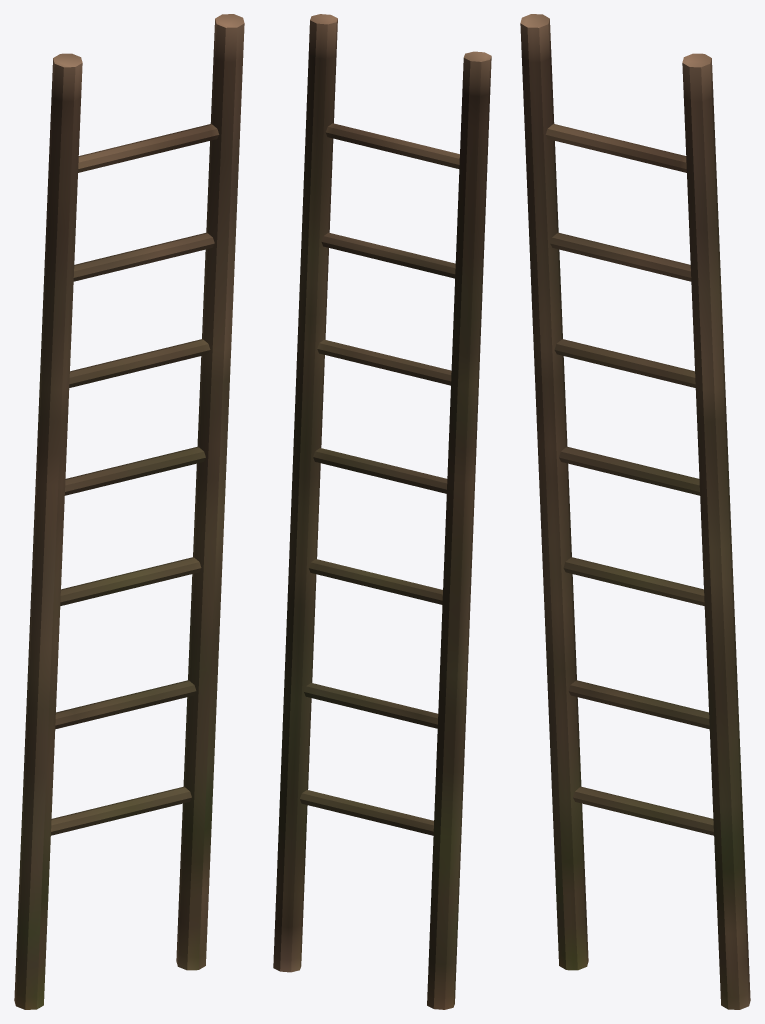
Rendered from ladder.fbx.
The picture shows the model from 3 angles, left to right: view 1: azimuth 30°, elevation 25°; view 2: azimuth 150°, elevation 25°; view 3: azimuth 330°, elevation 25°; orthographic projection. The views are drawn at different scales.
Parts seen in each view (by area): view 1: wooden_stairs_2; view 2: wooden_stairs_2; view 3: wooden_stairs_2.
Boxes of the visible parts, x1,y1,x2,y2 form: wooden_stairs_2: (14, 14, 244, 1009); wooden_stairs_2: (273, 14, 491, 1009); wooden_stairs_2: (520, 14, 750, 1009).
Bounding box in the file's own units: 122 × 604 × 60.68.
Materials: 1 (1 with a texture image).
